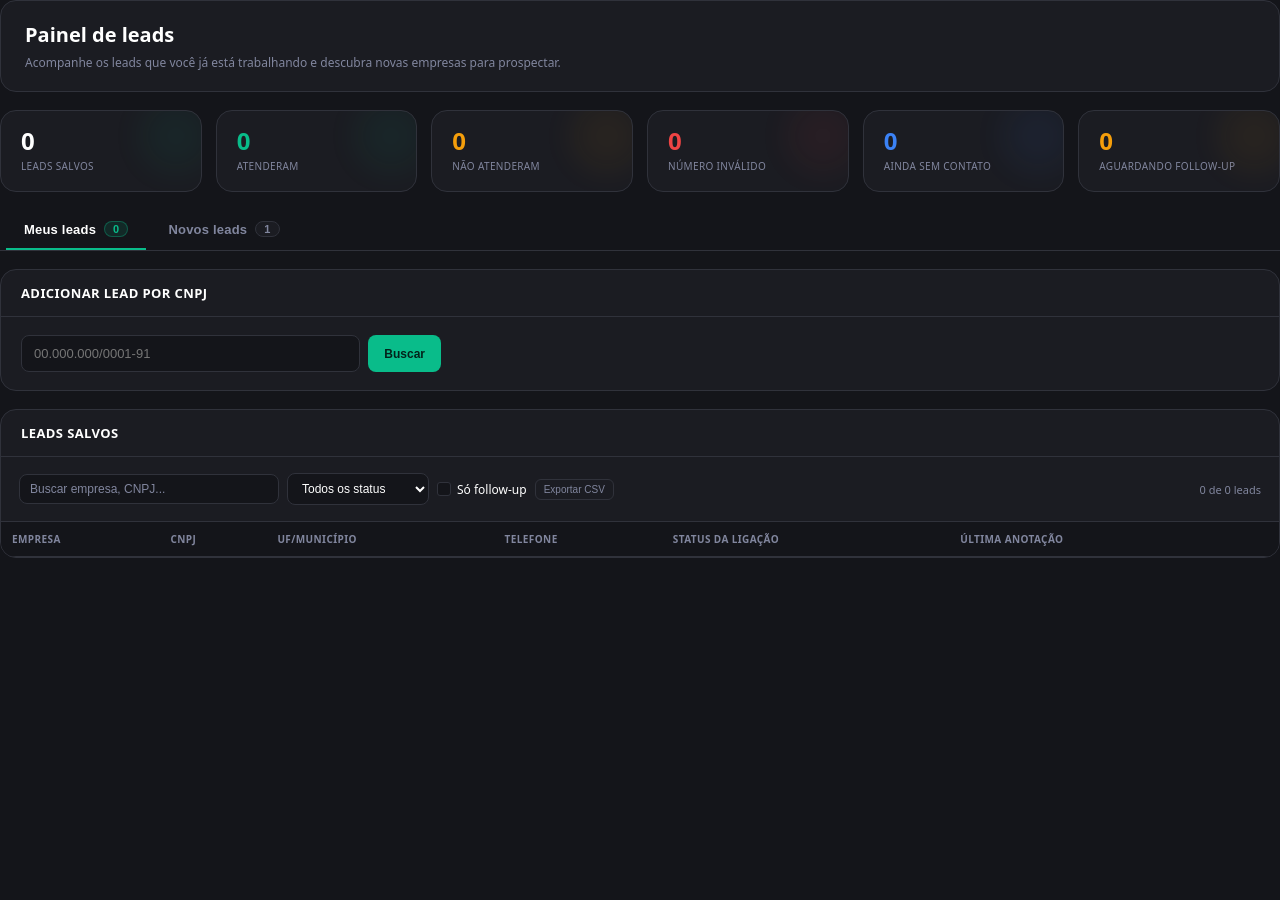
Test case: LeadsPage › adicionar um lead novo aos salvos remove o CNPJ da lista de novos e adiciona na de salvos
Click the button "Novos leads 1".
click(224, 230)  # box 150,210 -> 298,250
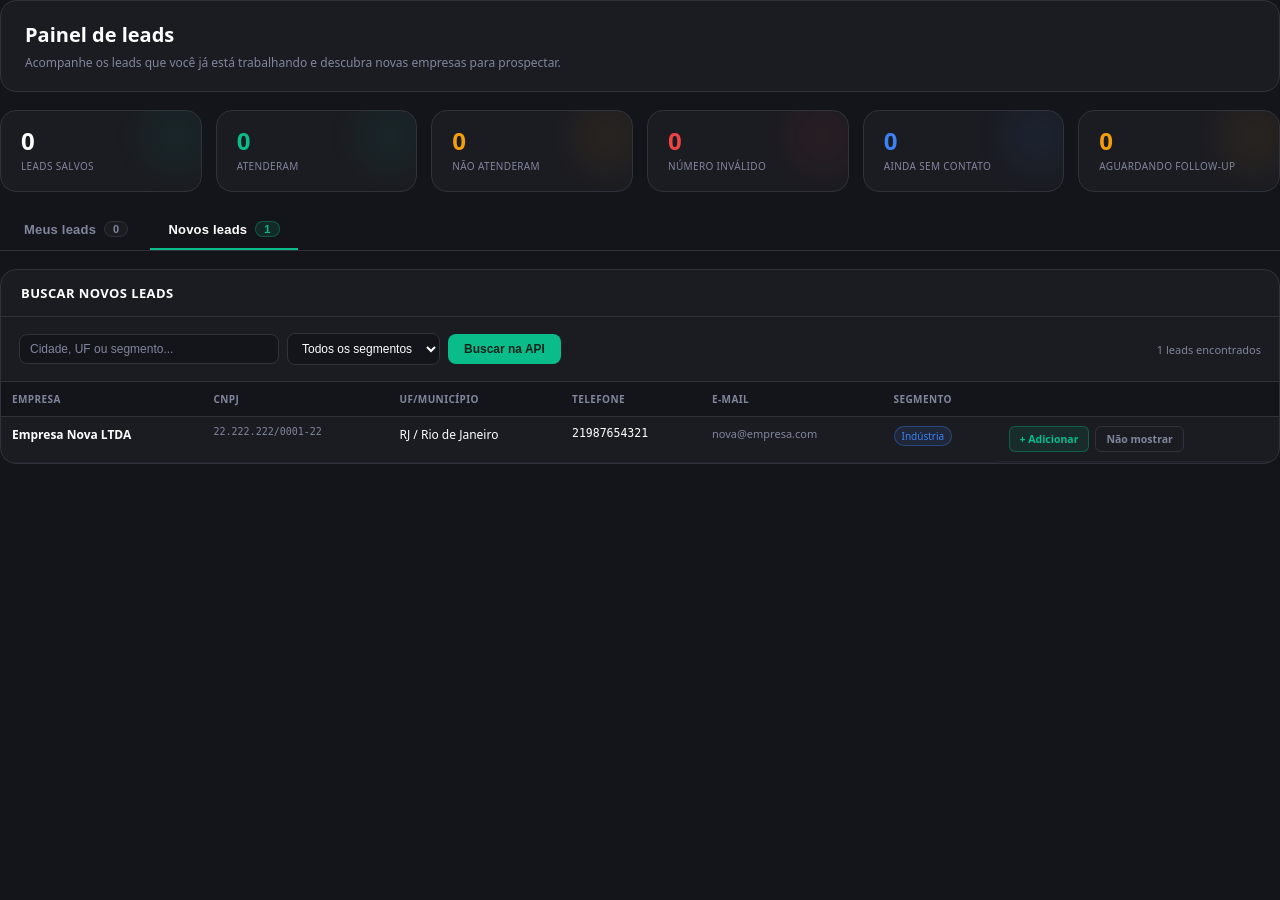
Result: the text "Empresa Nova LTDA" is shown at 12,426 -> 131,443
Click the text "+ Adicionar".
click(1049, 439)  # box 1008,426 -> 1089,452
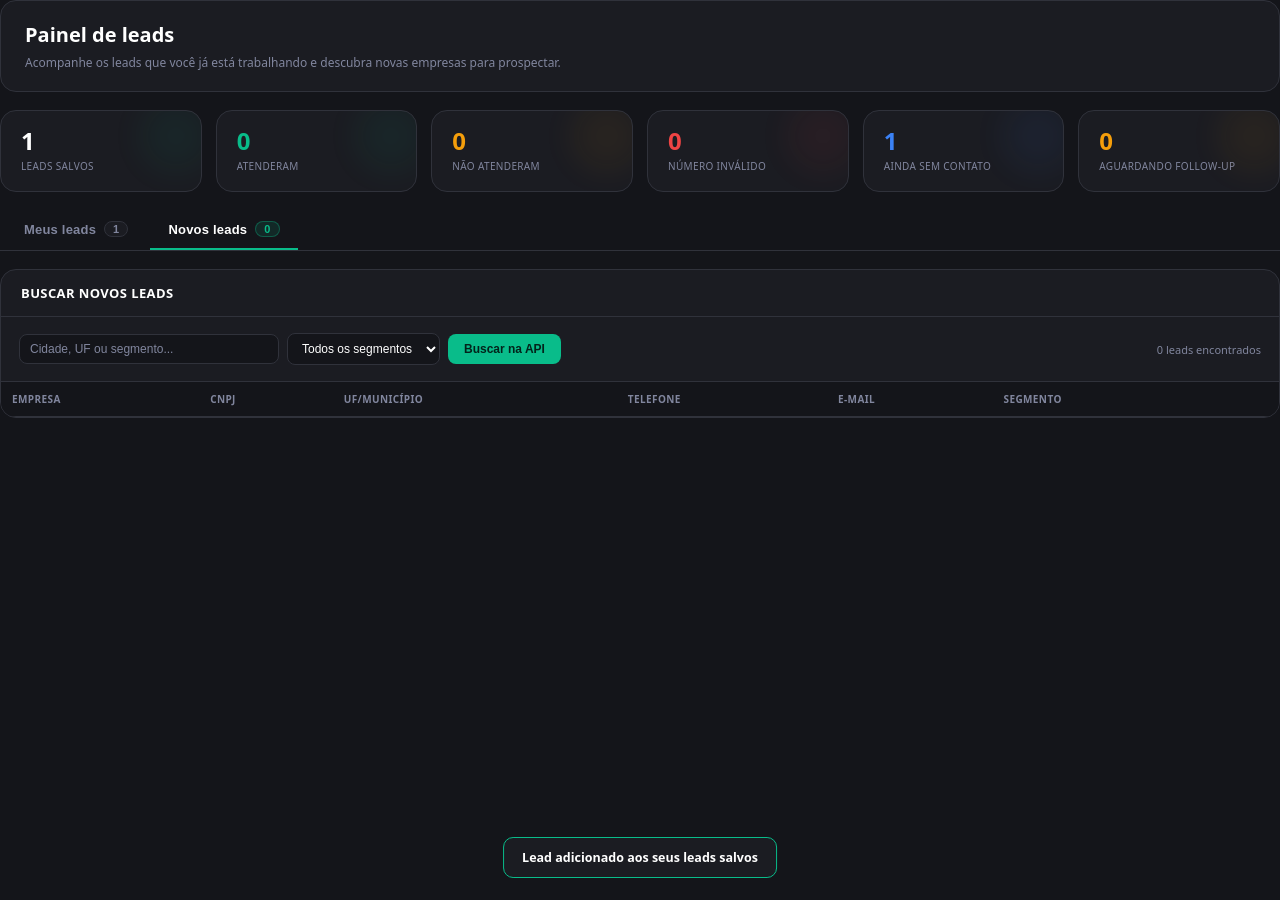
Result: the text "Empresa Nova LTDA" is gone
Click the button "Meus leads 1".
click(76, 230)  # box 6,210 -> 146,250
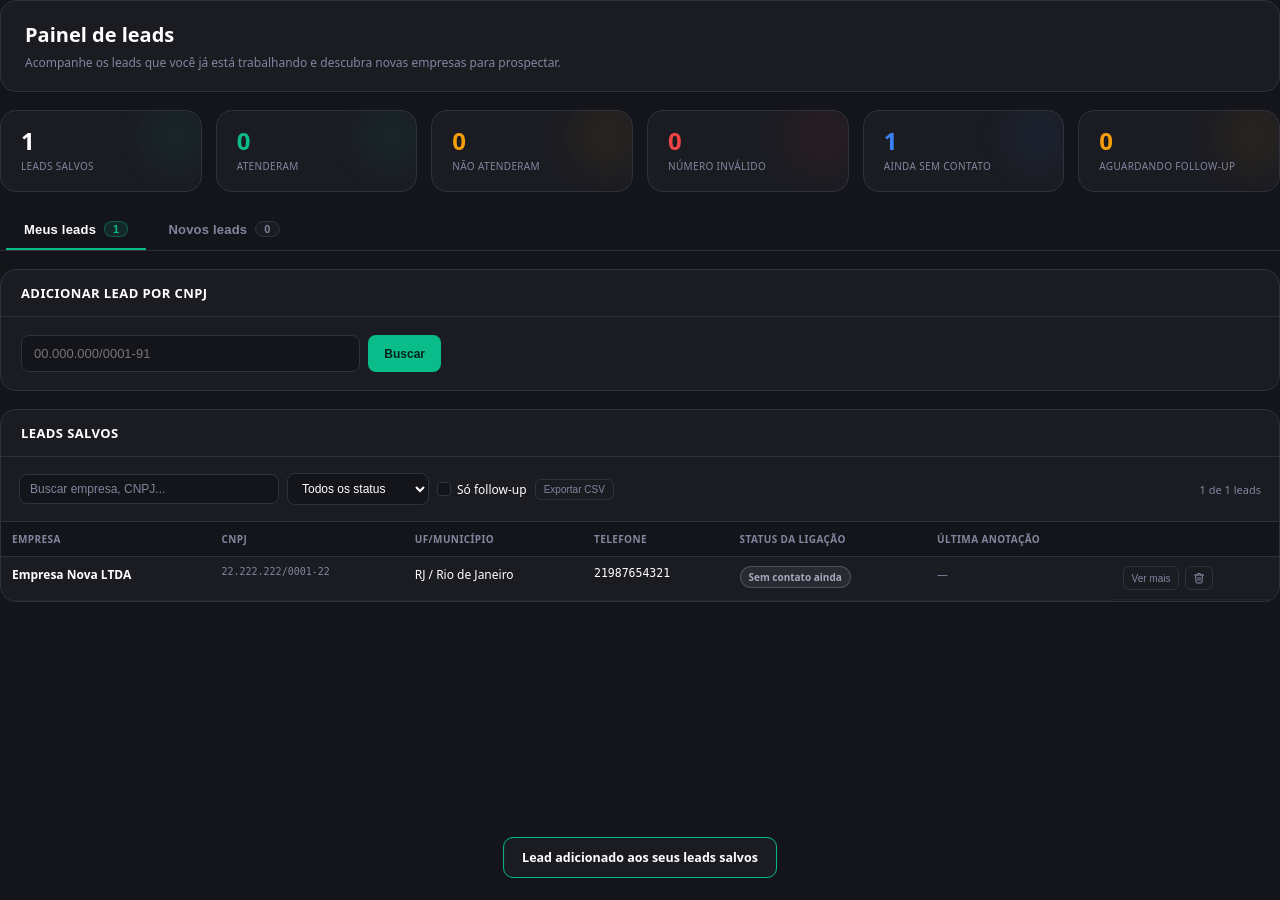
Result: the text "Empresa Nova LTDA" is shown at 12,566 -> 131,583
